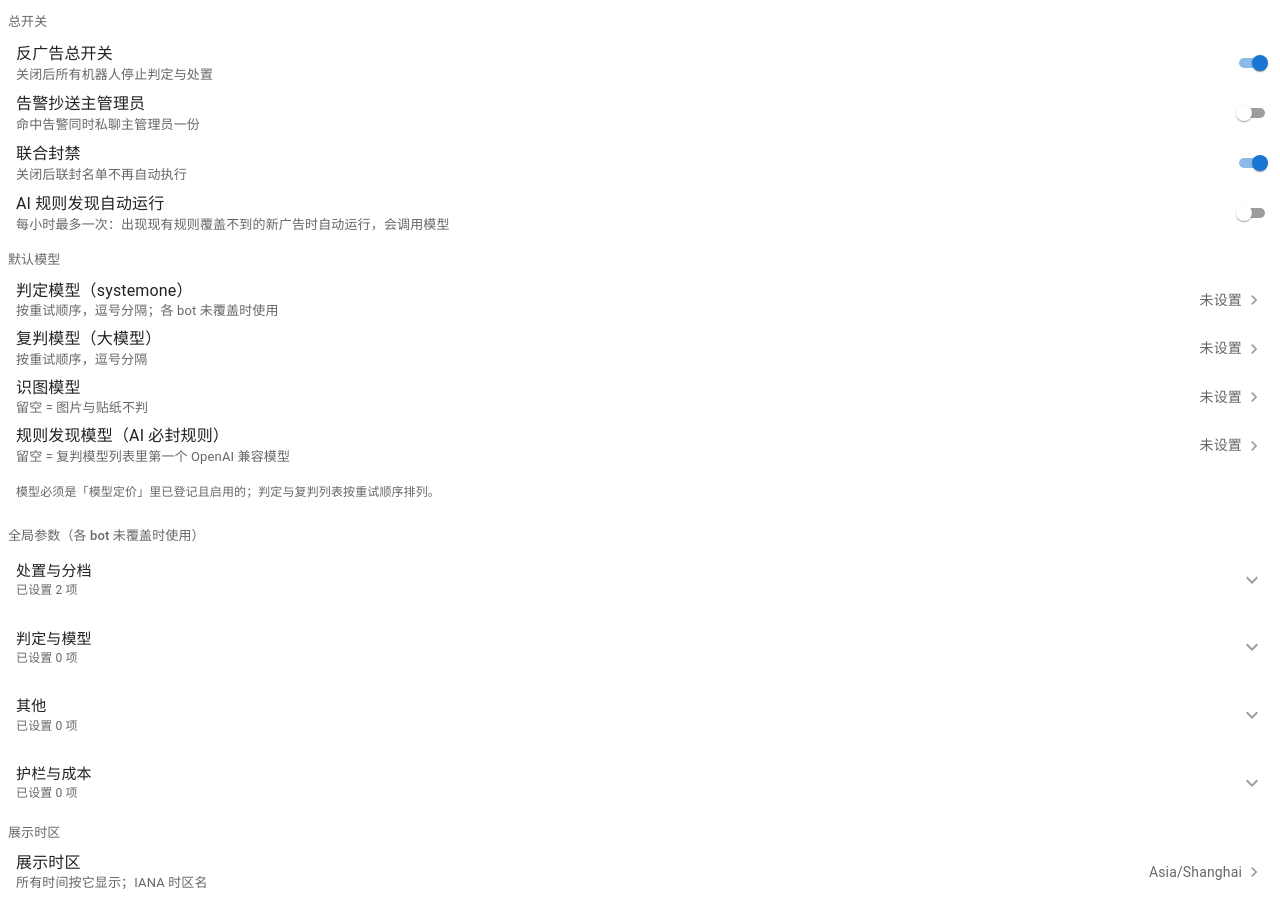
Test: SettingsPage 主题折叠卡（智能控件） › 卡头显示已设置项数；toggle 是 Switch，number 是按钮值 + 换算文案
expect the heading "总开关" is shown: met, box left=8, top=14, right=47, bottom=29
expect the text "已设置 2 项" is shown: met, box left=16, top=584, right=78, bottom=598
Click the button "处置与分档 已设置 2 项": click(54, 571) left=0, top=552, right=1279, bottom=608
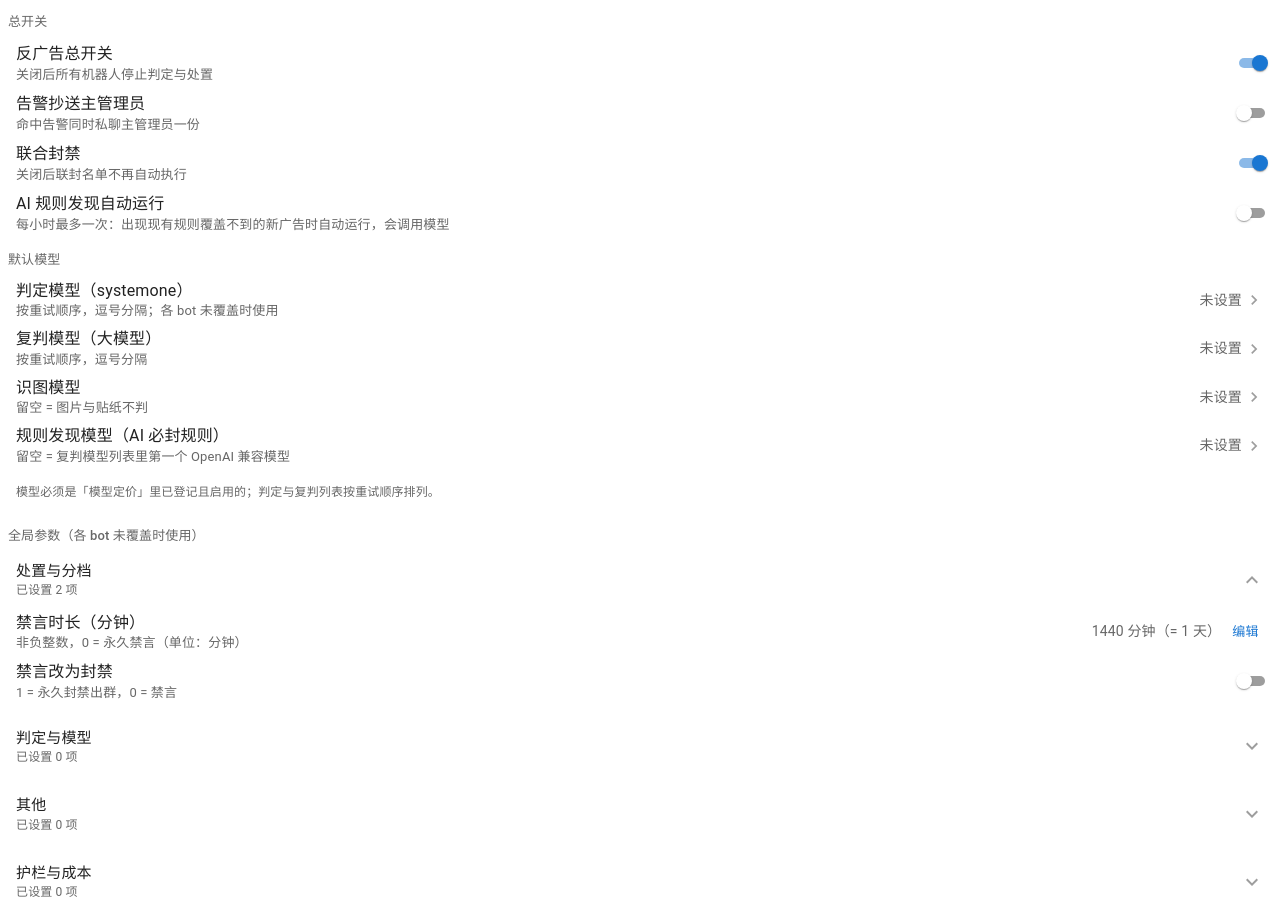
expect the switch named "禁言改为封禁" is shown: met, box left=1236, top=673, right=1252, bottom=689
expect the text "1440 分钟（= 1 天）" is shown: met, box left=1092, top=621, right=1221, bottom=642
